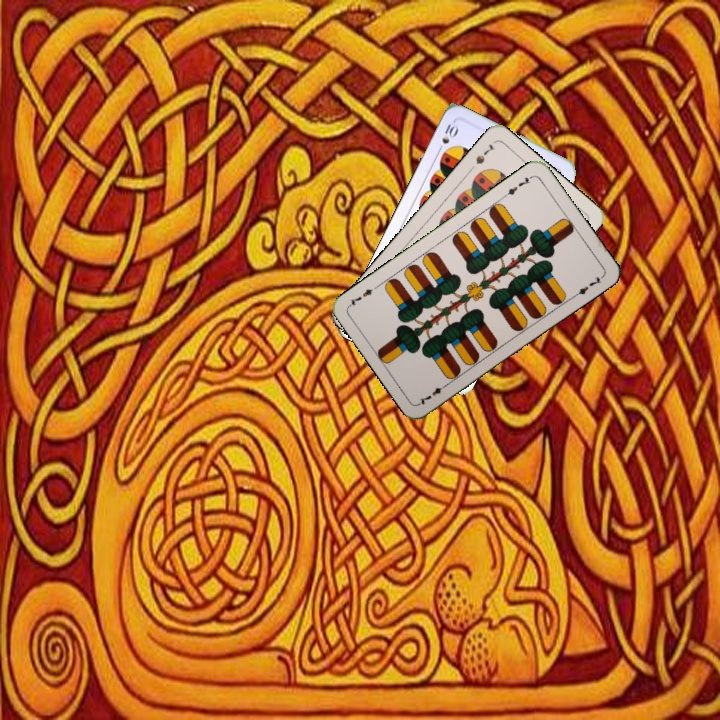E7: (415, 379, 451, 407), (500, 172, 535, 199)
S10: (433, 118, 461, 156)
S7: (472, 140, 497, 167)
